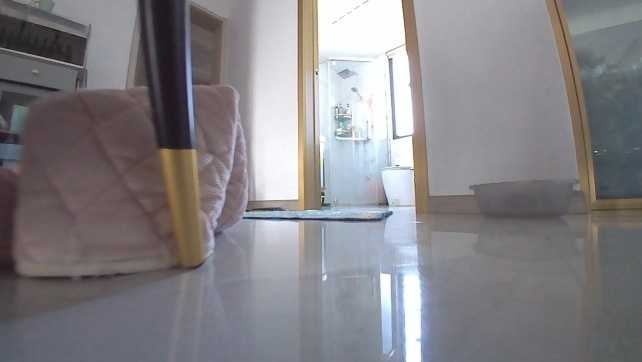blanket: (243, 200, 391, 224)
toilet: (377, 158, 415, 209)
